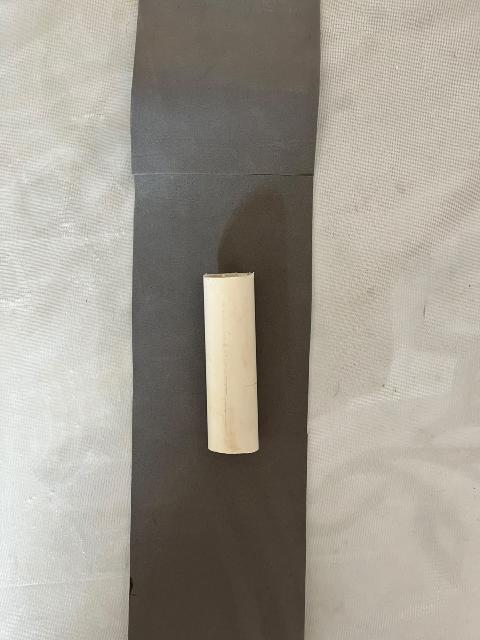PVC: (160, 228, 305, 489)
